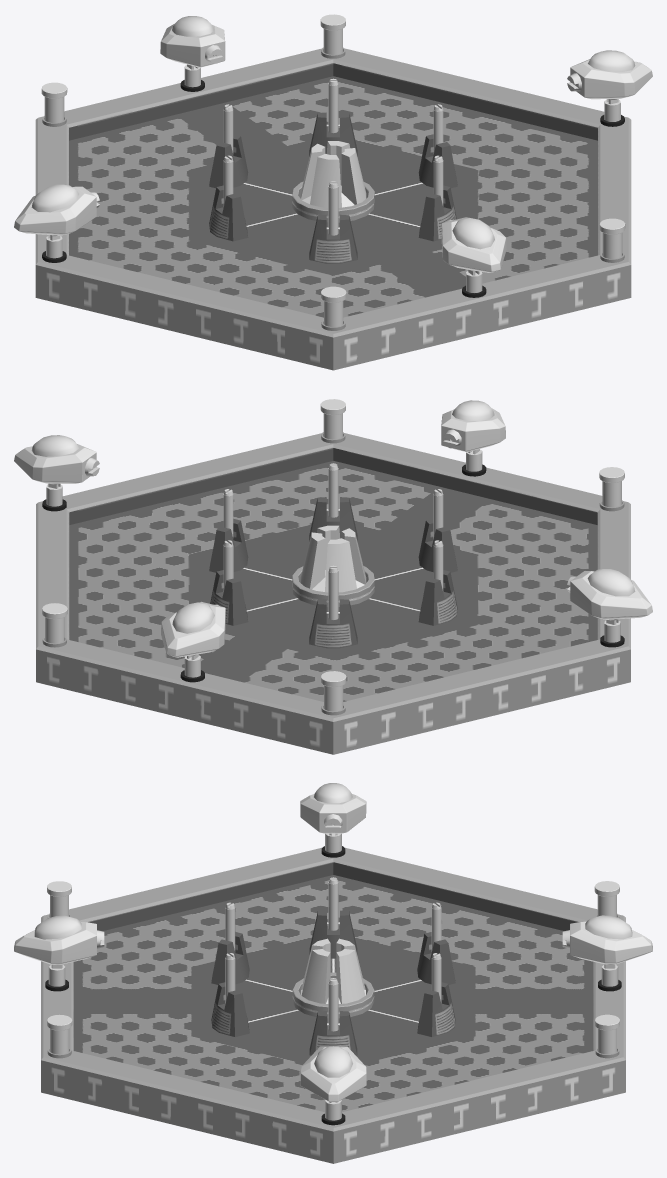
The model's file is SM_LaserTrap.FBX.
3 renders of one model, top to bottom at view 1: azimuth 30°, elevation 25°; view 2: azimuth 150°, elevation 25°; view 3: azimuth 270°, elevation 25°, orthographic.
Parts seen in each view (by area): view 1: Base, Nobs, Middle, OutLaser02, OutLaser01, OutLaser04, OutLaser03, OutLaserBase, InnerLaser05, InnerLaser03; view 2: Base, Nobs, Middle, OutLaser02, OutLaser01, OutLaser03, OutLaser04, OutLaserBase, InnerLaser06, InnerLaser02; view 3: Base, OutLaser03, OutLaser04, Nobs, Middle, OutLaser01, OutLaser02, OutLaserBase, InnerLaser04, InnerLaser01.
Part boxes in pixels (x1,y1,x2,y2): Base: (35, 47, 631, 370); Nobs: (41, 14, 625, 326); Middle: (300, 141, 366, 207); OutLaser02: (14, 184, 99, 236); OutLaser01: (567, 50, 652, 100); OutLaser04: (441, 217, 506, 272); OutLaser03: (160, 16, 225, 67); OutLaserBase: (46, 64, 620, 292); InnerLaser05: (326, 181, 339, 235); InnerLaser03: (326, 78, 339, 133); Base: (36, 432, 630, 754); Nobs: (42, 399, 624, 711); Middle: (300, 525, 366, 592); OutLaser02: (567, 569, 652, 620); OutLaser01: (14, 435, 99, 484); OutLaser03: (161, 601, 225, 657); OutLaser04: (441, 400, 505, 452); OutLaserBase: (46, 449, 620, 677); InnerLaser06: (326, 463, 339, 517); InnerLaser02: (326, 565, 339, 619); Base: (41, 846, 625, 1163); OutLaser03: (562, 915, 652, 965); OutLaser04: (14, 915, 104, 965); Nobs: (47, 881, 619, 1054); Middle: (301, 938, 365, 1003); OutLaser01: (300, 1046, 366, 1102); OutLaser02: (300, 783, 366, 833); OutLaserBase: (48, 833, 618, 1120); InnerLaser04: (327, 978, 339, 1031); InnerLaser01: (327, 877, 339, 930).
Bounding box in the file's own units: 3.2 × 0.5038 × 2.84.
